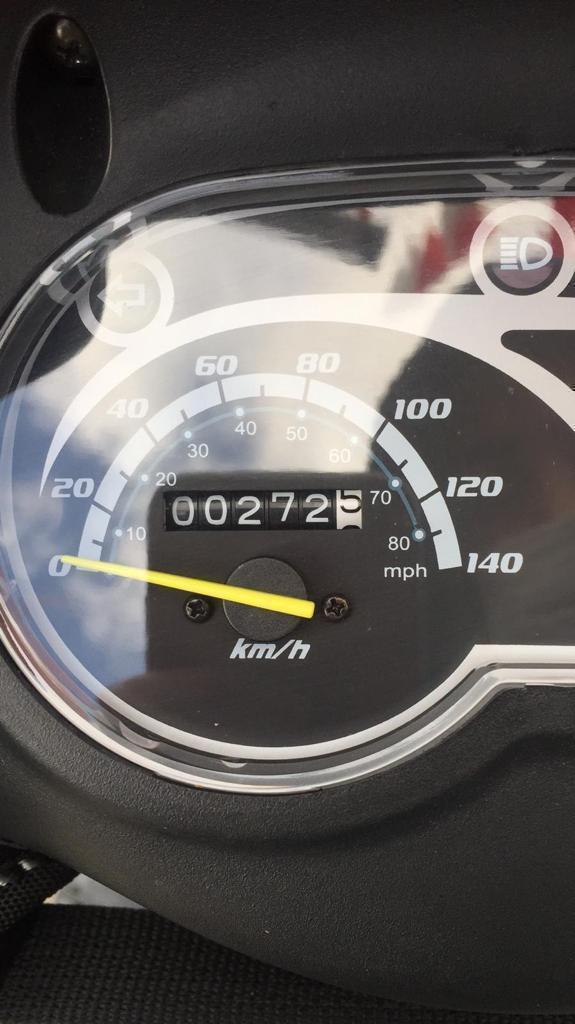0: (202, 493, 229, 526), (169, 494, 195, 527)
2: (235, 494, 263, 526), (302, 492, 330, 524)
5: (339, 488, 362, 514)
7: (269, 490, 295, 523)
odometer: (159, 485, 367, 534)
